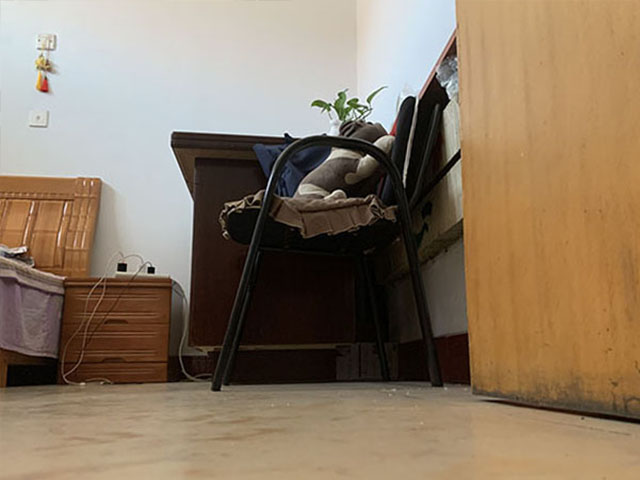bed: (1, 170, 104, 386)
cabinet: (58, 274, 174, 385)
stool: (211, 99, 445, 392)
table: (169, 129, 400, 388)
wire: (60, 246, 158, 386), (170, 277, 214, 384)
